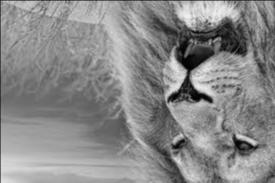Non_Gorille: (120, 0, 272, 183)
